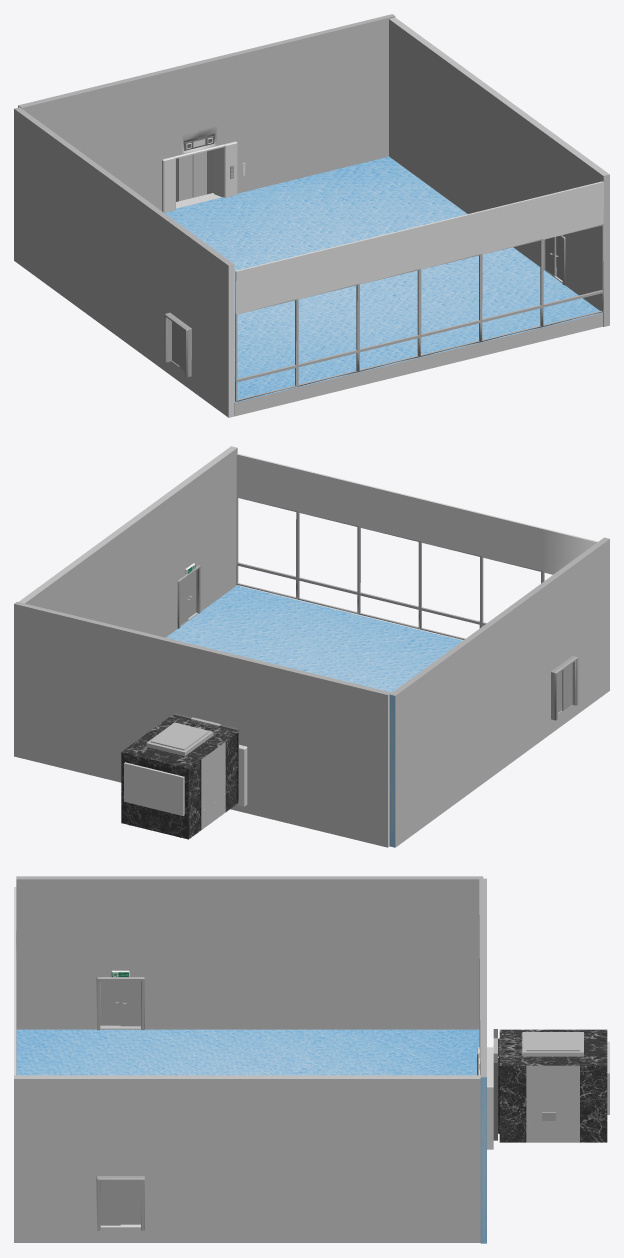
Rendered from elevator.fbx.
3 views of the same model, one above another, from view 1: azimuth 30°, elevation 25°; view 2: azimuth 150°, elevation 25°; view 3: azimuth 270°, elevation 25° (orthographic). The views are drawn at different scales.
Parts seen in each view (by area): view 1: Library__1_, door, door_r, exit_1.001, door_l; view 2: Library__1_, Elevator, mirror, exit_1.001, door; view 3: Library__1_, Elevator, exit_leftdoor.001, exit_rightdoor.001, exit_rightdoor_1.001, exit_leftdoor_1.001, door, exit_1_1.001, exit_1.001.
Part boxes in pixels (x1,y1,x2,y2): Library__1_: (14,14,609,417); door: (162,141,237,212); door_r: (192,149,213,197); exit_1.001: (164,312,191,377); door_l: (176,155,192,201); Library__1_: (14,446,609,847); Elevator: (121,716,238,839); mirror: (124,762,184,815); exit_1.001: (551,656,578,720); door: (236,744,247,806); Library__1_: (14,876,486,1243); Elevator: (498,1029,607,1142); exit_leftdoor.001: (120,980,140,1026); exit_rightdoor.001: (100,980,120,1025); exit_rightdoor_1.001: (100,1181,120,1225); exit_leftdoor_1.001: (120,1181,140,1224); door: (477,1047,493,1149); exit_1_1.001: (96,1176,144,1230); exit_1.001: (96,977,144,1030).
Size of the model in its own units: 6402 by 2387 by 7758.
